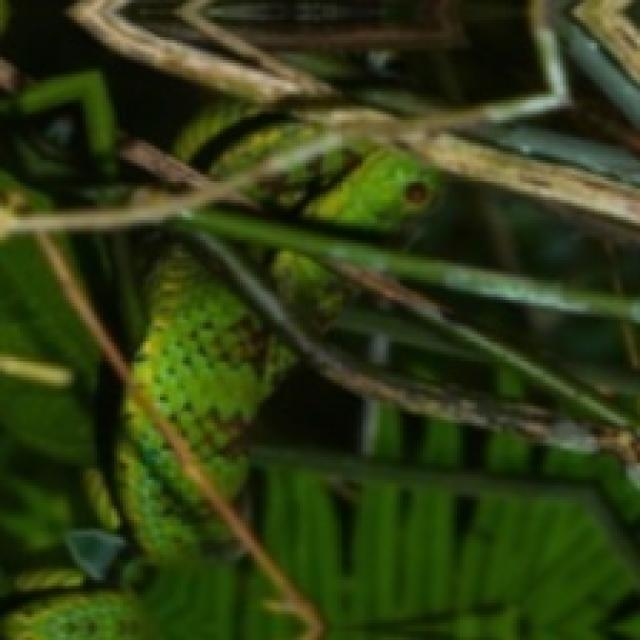philippine pitviper: (126, 243, 294, 497), (209, 123, 437, 231), (117, 400, 229, 560), (123, 100, 260, 186), (237, 240, 351, 334)
